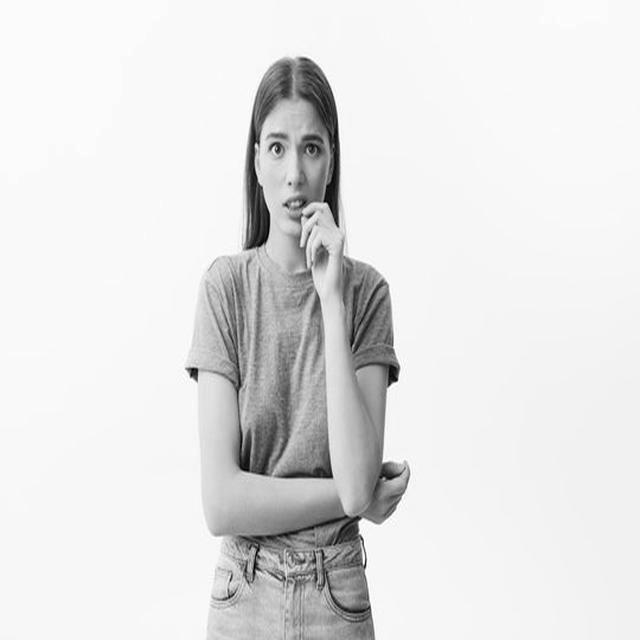Disgust: (258, 99, 332, 238)
